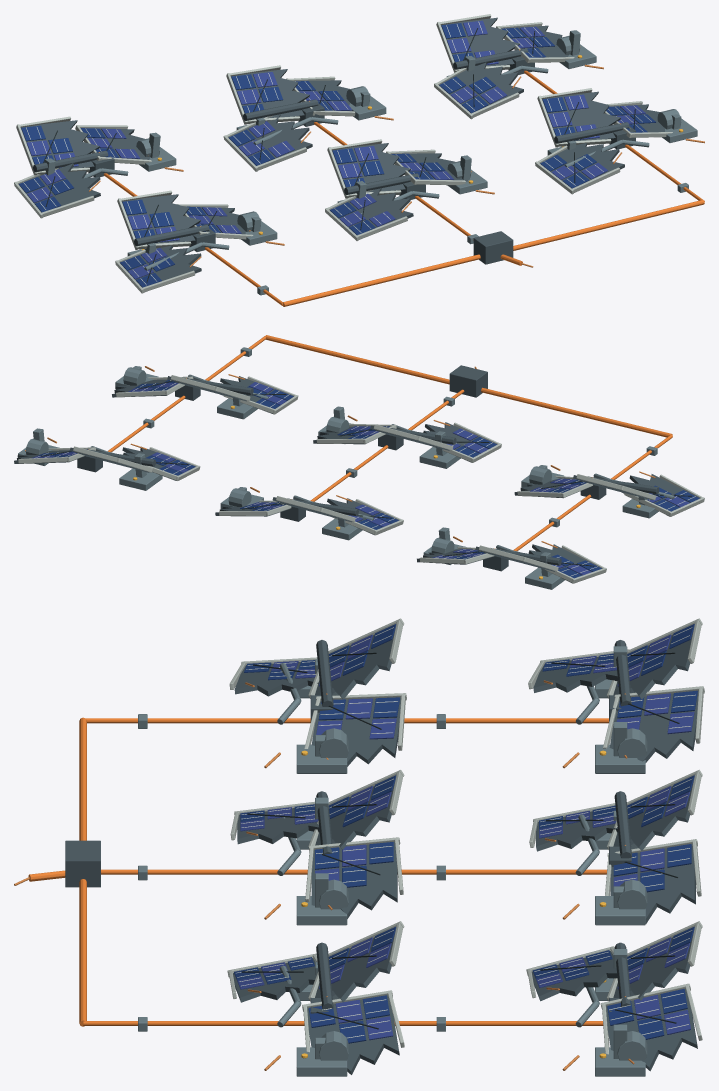
The model's file is solar_array_d3.glb.
3 views of the same model, one above another, from view 1: azimuth 30°, elevation 25°; view 2: azimuth 150°, elevation 25°; view 3: azimuth 270°, elevation 25° (orthographic). The views are drawn at different scales.
Parts seen in each view (by area): view 1: COLLECTION_CABLE_TRUNK, JAGGED_PV_BACKING_008, JAGGED_PV_BACKING_002, JAGGED_PV_BACKING_017, JAGGED_PV_BACKING_011, JAGGED_PV_BACKING_014, JAGGED_PV_BACKING_005, JAGGED_PV_BACKING_015, JAGGED_PV_BACKING_009, JAGGED_PV_BACKING_012, JAGGED_PV_BACKING_003, JAGGED_PV_BACKING_006 (+16 smaller); view 2: COLLECTION_CABLE_TRUNK, ARRAY_COMBINER_BOX, ARRAY_COLLECTION_CABLE, ARRAY_COLLECTION_CABLE_002, ARRAY_COLLECTION_CABLE_001, RACK_ANCHOR_FOOTING_010, JAGGED_PV_BACKING, RACK_ANCHOR_FOOTING_002, RACK_ANCHOR_FOOTING_006, RACK_ANCHOR_FOOTING_008, RACK_ANCHOR_FOOTING_004, JAGGED_PV_BACKING_009 (+2 smaller); view 3: ARRAY_COLLECTION_CABLE, ARRAY_COLLECTION_CABLE_001, JAGGED_PV_BACKING_004, COLLECTION_CABLE_TRUNK, JAGGED_PV_BACKING_013, JAGGED_PV_BACKING_010, ARRAY_COLLECTION_CABLE_002, JAGGED_PV_BACKING_001, JAGGED_PV_BACKING_007, JAGGED_PV_BACKING_016, ARRAY_COMBINER_BOX, JAGGED_PV_BACKING_008 (+26 smaller).
Part boxes in pixels (box(x1,y1,x2,y2)): COLLECTION_CABLE_TRUNK: box(283, 200, 704, 306); JAGGED_PV_BACKING_008: box(542, 91, 620, 141); JAGGED_PV_BACKING_002: box(122, 194, 200, 243); JAGGED_PV_BACKING_017: box(441, 17, 519, 66); JAGGED_PV_BACKING_011: box(21, 120, 99, 168); JAGGED_PV_BACKING_014: box(231, 69, 309, 118); JAGGED_PV_BACKING_005: box(332, 143, 410, 192); JAGGED_PV_BACKING_015: box(439, 62, 523, 108); JAGGED_PV_BACKING_009: box(18, 163, 100, 212); JAGGED_PV_BACKING_012: box(233, 114, 312, 159); JAGGED_PV_BACKING_003: box(338, 188, 413, 227); JAGGED_PV_BACKING_006: box(545, 139, 624, 181); COLLECTION_CABLE_TRUNK: box(265, 335, 672, 437); ARRAY_COMBINER_BOX: box(449, 365, 487, 397); ARRAY_COLLECTION_CABLE: box(513, 435, 672, 551); ARRAY_COLLECTION_CABLE_002: box(108, 336, 265, 452); ARRAY_COLLECTION_CABLE_001: box(310, 389, 464, 501); RACK_ANCHOR_FOOTING_010: box(119, 468, 162, 490); JAGGED_PV_BACKING: box(622, 474, 689, 515); RACK_ANCHOR_FOOTING_002: box(419, 447, 460, 468); RACK_ANCHOR_FOOTING_006: box(525, 567, 564, 589); RACK_ANCHOR_FOOTING_008: box(322, 518, 362, 540); RACK_ANCHOR_FOOTING_004: box(217, 398, 257, 419); JAGGED_PV_BACKING_009: box(528, 544, 591, 582); ARRAY_COLLECTION_CABLE: box(86, 718, 608, 723); ARRAY_COLLECTION_CABLE_001: box(101, 869, 606, 874); JAGGED_PV_BACKING_004: box(311, 842, 397, 918); COLLECTION_CABLE_TRUNK: box(79, 717, 86, 1026); JAGGED_PV_BACKING_013: box(610, 844, 695, 923); JAGGED_PV_BACKING_010: box(609, 691, 698, 762); ARRAY_COLLECTION_CABLE_002: box(83, 1021, 603, 1025); JAGGED_PV_BACKING_001: box(311, 697, 400, 766); JAGGED_PV_BACKING_007: box(307, 995, 399, 1074); JAGGED_PV_BACKING_016: box(606, 988, 697, 1071); ARRAY_COMBINER_BOX: box(65, 840, 100, 887); JAGGED_PV_BACKING_008: box(315, 935, 394, 1002).
Size of the model in its own units: 16.42 by 1.4 by 11.58.
